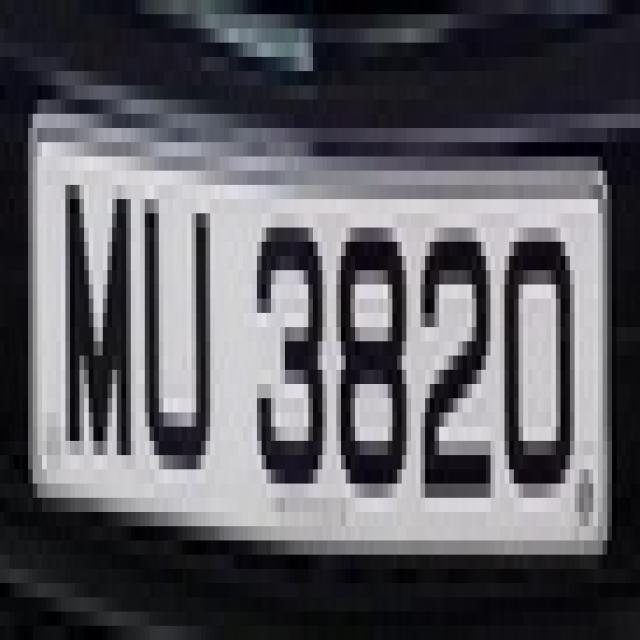licenseplate: (21, 100, 616, 578)
